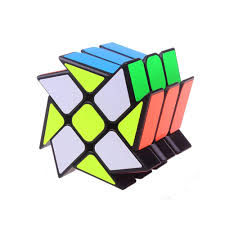rubik_cube: (33, 39, 199, 194)
